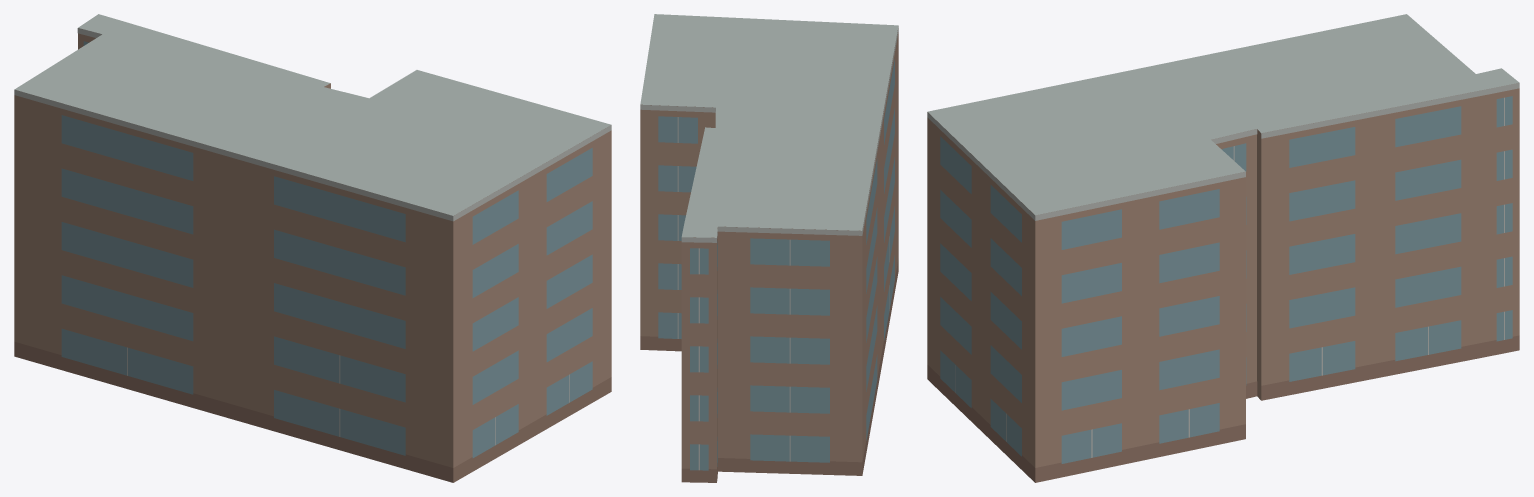
The model's file is survey-upis-32734363.glb.
3 renders of one model, left to right at view 1: azimuth 30°, elevation 25°; view 2: azimuth 150°, elevation 25°; view 3: azimuth 270°, elevation 25°, orthographic. The views are drawn at different scales.
Parts seen in each view (by area): view 1: survey-upis-32734363.tmp; view 2: survey-upis-32734363.tmp; view 3: survey-upis-32734363.tmp.
Part boxes in pixels (x1,y1,x2,y2): survey-upis-32734363.tmp: (14,14,611,482); survey-upis-32734363.tmp: (640,14,898,482); survey-upis-32734363.tmp: (927,14,1519,482).
Bounding box in the file's own units: 19.06 × 11.8 × 23.69.
